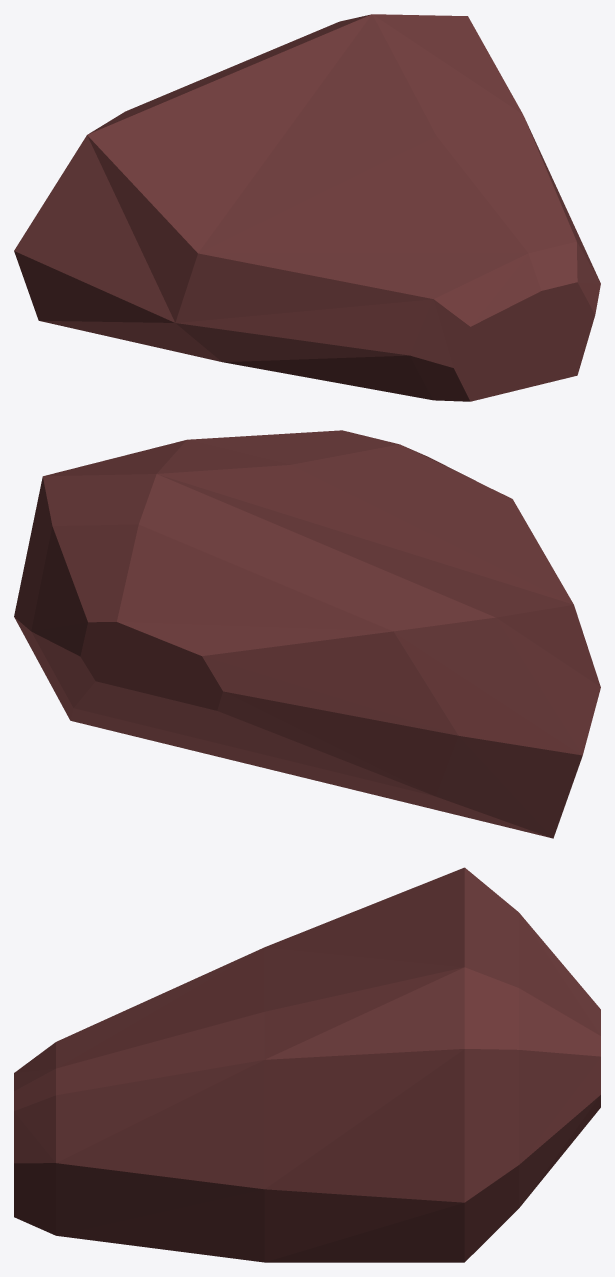
File: RToe_mesh.dae
3 renders of one model, top to bottom at view 1: azimuth 30°, elevation 25°; view 2: azimuth 150°, elevation 25°; view 3: azimuth 270°, elevation 25°, orthographic. The views are drawn at different scales.
Parts seen in each view (by area): view 1: RToe; view 2: RToe; view 3: RToe.
Boxes of the visible parts, <box> form: RToe: <box>14,14,600,401</box>; RToe: <box>14,430,600,838</box>; RToe: <box>14,867,600,1262</box>.
Size of the model in its own units: 0.0969 by 0.0436 by 0.0909.
